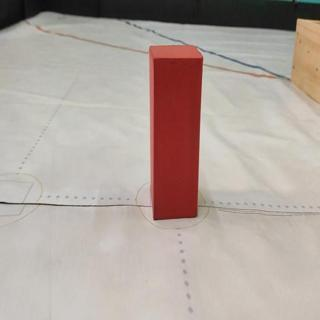redbox: (148, 45, 204, 220)
